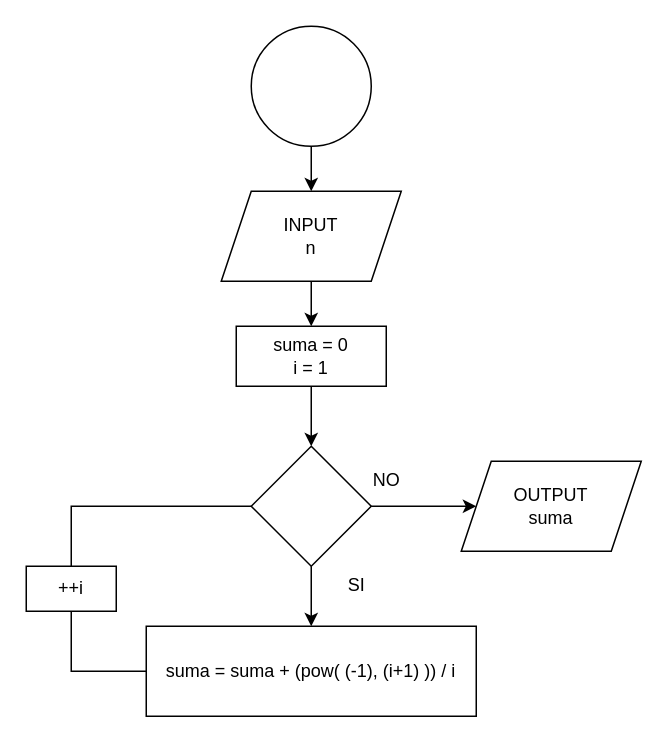
Image size: 668x743. Some labels were removed from this diagram. The centre of each missing label's shape, as x and y in pixels:
INICIO: point (310, 85)
n >= i: point (310, 505)
